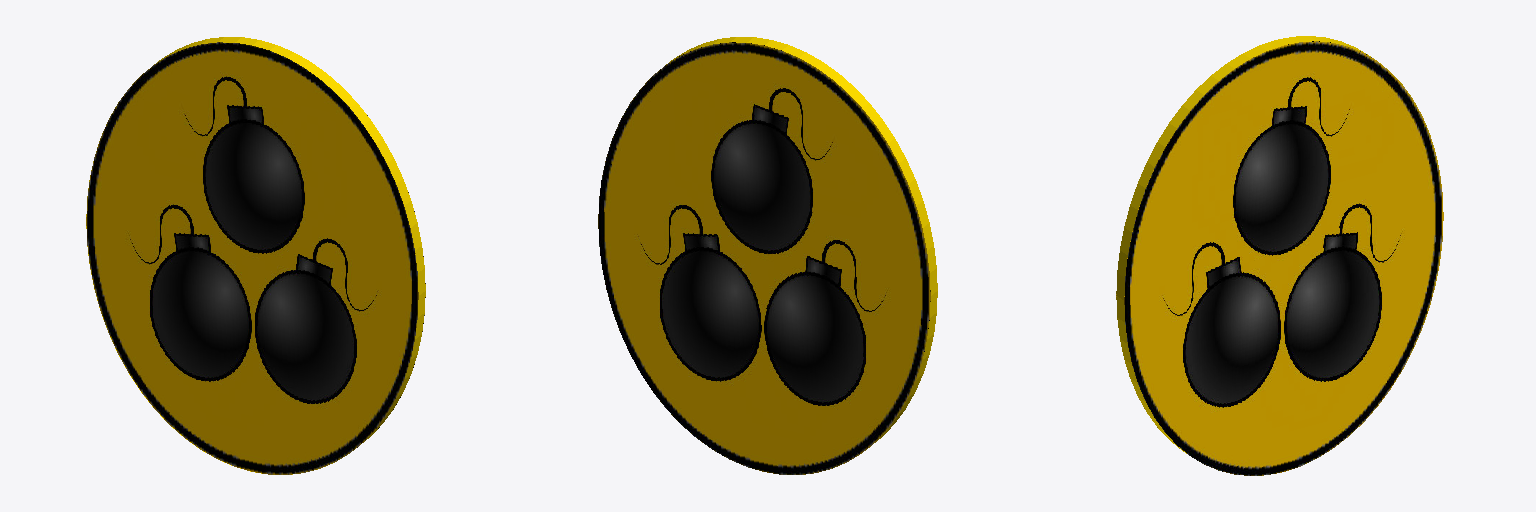
3 views of the same model, side by side, from view 1: azimuth 30°, elevation 25°; view 2: azimuth 210°, elevation 25°; view 3: azimuth 270°, elevation 25° (orthographic).
Visible parts, largest first — view 1: Circle.001_Circle.000, Circle.006; view 2: Circle.005, Circle.006; view 3: Circle.005, Circle.006.
Part boxes in pixels (left/top/right/bottom): Circle.001_Circle.000: left=86, top=42, right=418, bottom=474; Circle.006: left=86, top=37, right=425, bottom=474; Circle.005: left=598, top=42, right=930, bottom=474; Circle.006: left=666, top=37, right=937, bottom=440; Circle.005: left=1124, top=41, right=1443, bottom=475; Circle.006: left=1116, top=36, right=1426, bottom=453.
Bounding box in the file's own units: 2.26 × 5 × 3.48.
Materials: 3 (2 with a texture image).